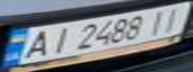2: (75, 20, 100, 51)
4: (93, 17, 115, 47)
8: (124, 12, 151, 41), (109, 16, 133, 44)
A: (15, 28, 54, 61)
I: (154, 3, 190, 34), (42, 25, 75, 55), (142, 7, 175, 36)
